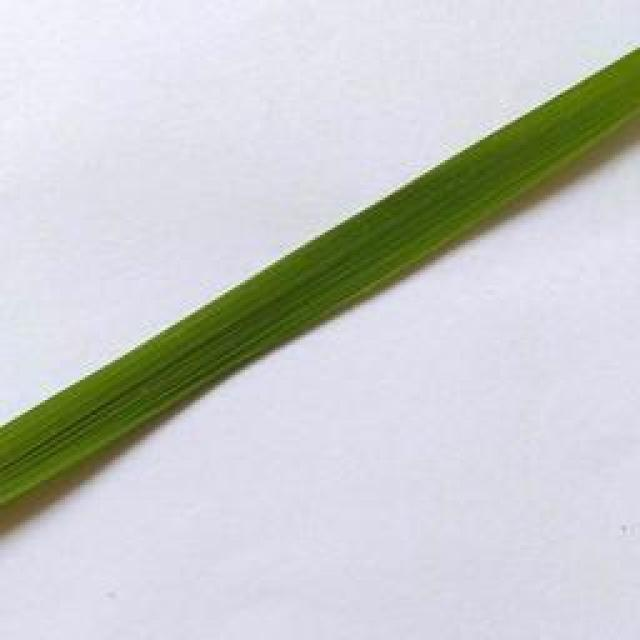Healthy-Plant: (0, 37, 640, 536)
